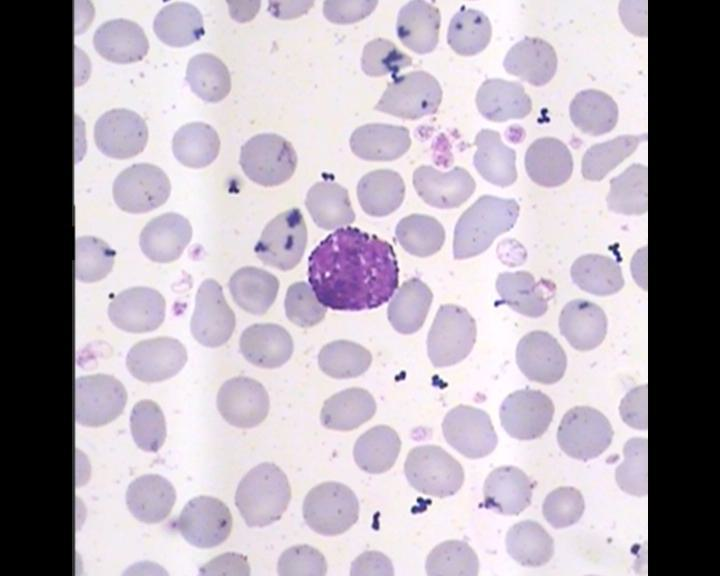baso: (302, 219, 404, 313)
